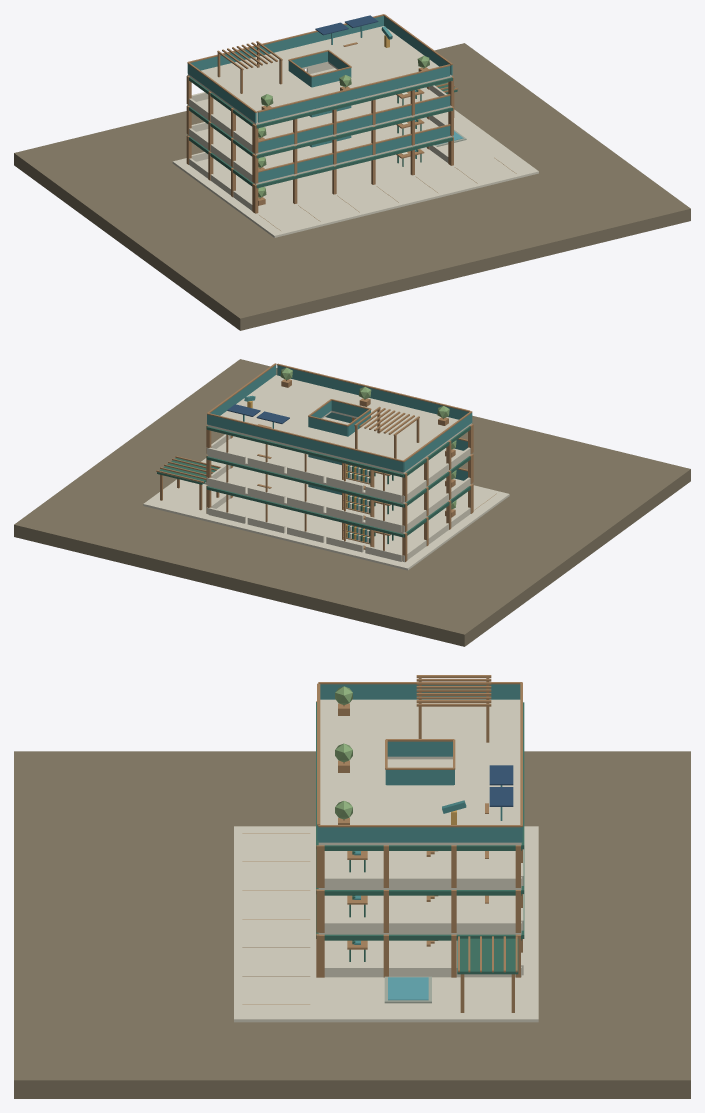
Rendered from explorer-hall.glb.
3 renders of one model, top to bottom at view 1: azimuth 30°, elevation 25°; view 2: azimuth 150°, elevation 25°; view 3: azimuth 270°, elevation 25°, orthographic. The views are drawn at different scales.
Parts seen in each view (by area): view 1: Island_soil, Walkable_slab, Walkable_slab.010, Walkable_slab.009, Guardrail.014, Guardrail.009, Guardrail.004, Walkable_slab.001, Walkable_slab.005, Guardrail.017, Walkable_slab.006, Walkable_slab.002 (+12 smaller); view 2: Island_soil, Walkable_slab, Walkable_slab.010, Walkable_slab.009, Guardrail.017, Guardrail.014, Walkable_slab.006, Walkable_slab.002, Walkable_slab.001, Walkable_slab.005, Back_lintel, Back_lintel.001 (+12 smaller); view 3: Island_soil, Walkable_slab, Walkable_slab.009, Walkable_slab.010, Walkable_slab.002, Walkable_slab.006, Guardrail.016, Guardrail.015, Side_spandrel.003, Side_spandrel.005, Pavilion_roof, Walkable_slab.012 (+8 smaller).
Part boxes in pixels (x1,y1,x2,y2): Island_soil: (14,43,690,330); Walkable_slab: (172,109,538,237); Walkable_slab.010: (306,26,451,96); Walkable_slab.009: (188,54,334,124); Guardrail.014: (257,66,450,122); Guardrail.009: (258,96,450,152); Guardrail.004: (258,126,450,182); Walkable_slab.001: (188,128,334,184); Walkable_slab.005: (188,98,334,154); Guardrail.017: (190,16,383,70); Walkable_slab.006: (310,68,451,125); Walkable_slab.002: (351,117,451,155); Island_soil: (14,359,690,646); Walkable_slab: (143,458,509,570); Walkable_slab.010: (207,375,352,445); Walkable_slab.009: (325,403,471,473); Guardrail.017: (207,414,403,472); Guardrail.014: (277,365,468,419); Walkable_slab.006: (207,417,349,475); Walkable_slab.002: (207,466,308,505); Walkable_slab.001: (325,478,471,533); Walkable_slab.005: (325,448,471,503); Back_lintel: (207,486,403,537); Back_lintel.001: (207,456,403,507); Island_soil: (14,751,690,1098); Walkable_slab: (234,826,538,1022); Walkable_slab.009: (320,699,520,759); Walkable_slab.010: (318,785,521,845); Walkable_slab.002: (318,895,521,934); Walkable_slab.006: (318,851,521,889); Guardrail.016: (318,827,521,842); Guardrail.015: (320,684,520,699); Side_spandrel.003: (324,921,521,932); Side_spandrel.005: (324,877,521,887); Pavilion_roof: (457,938,518,974); Walkable_slab.012: (320,756,385,784).
Bounding box in the file's own units: 46 × 12.67 × 40.
